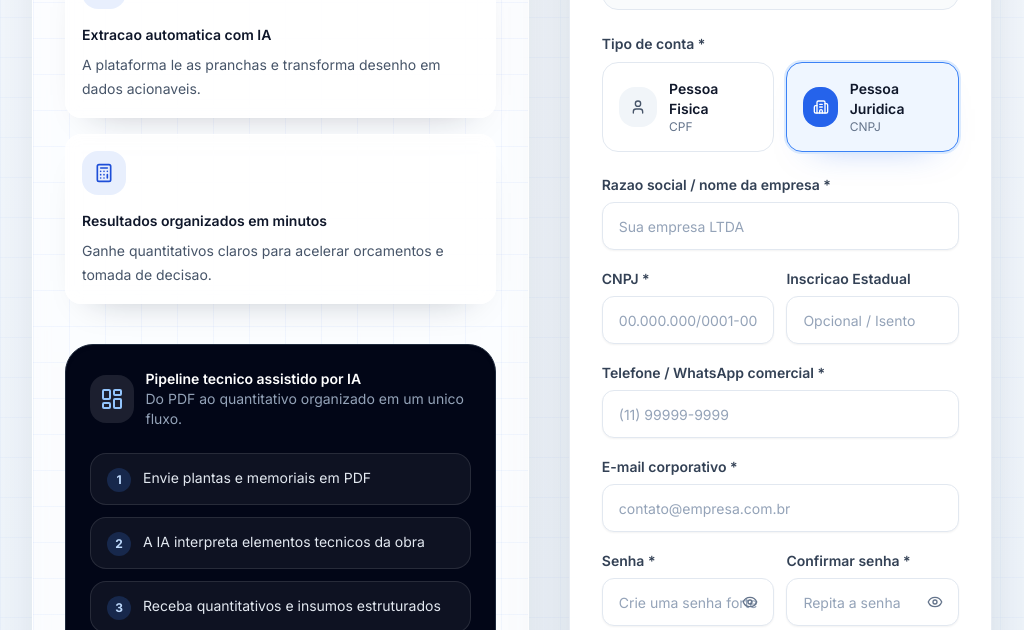
Test case: Auth conversion flow › preselects PJ from the query string and preserves CNPJ data when toggling account type
(page scrolled)
Expected: the field labelled "Razao social / nome da empresa *" is shown, [602,202,959,250]
Type "12345678000190" into the field labelled "CNPJ *" at point(688, 320), box [602,296,774,344]
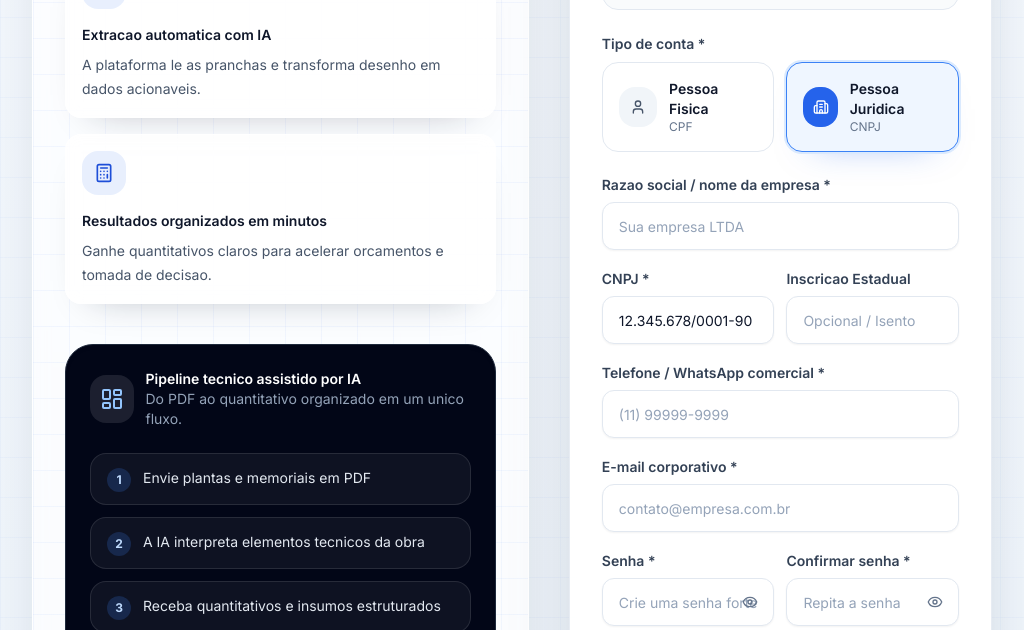
Expected: the field labelled "CNPJ *" holds "12.345.678/0001-90", [602,296,774,344]
Click the button "Pessoa Fisica CPF" at point(688, 107), box [602,62,774,152]
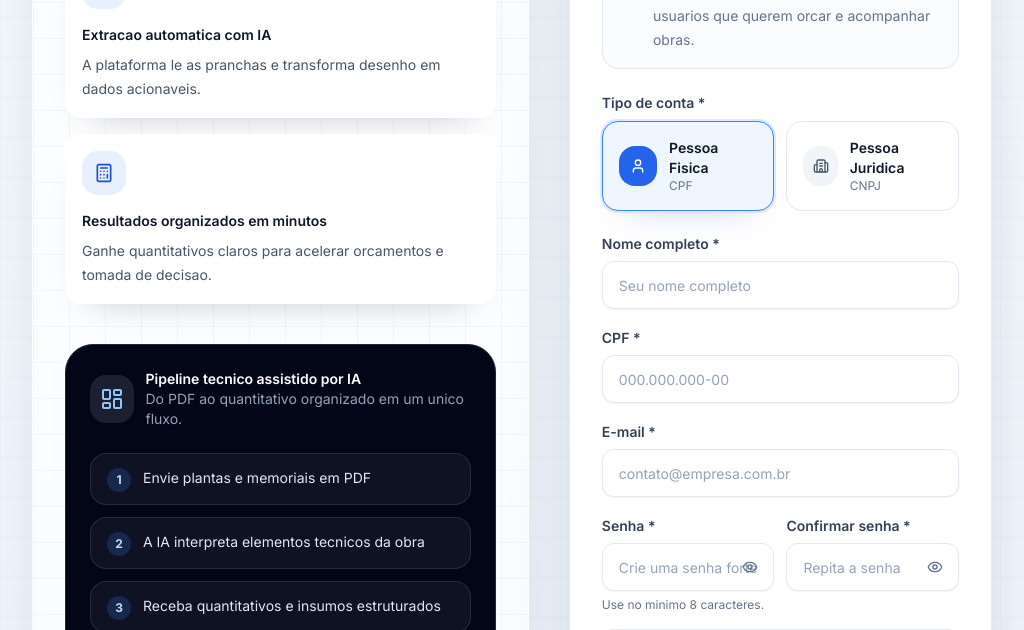
Expected: the field labelled "Nome completo *" is shown, [602,261,959,309]
Click the button "Pessoa Juridica CNPJ" at point(873, 166), box [786,121,959,211]
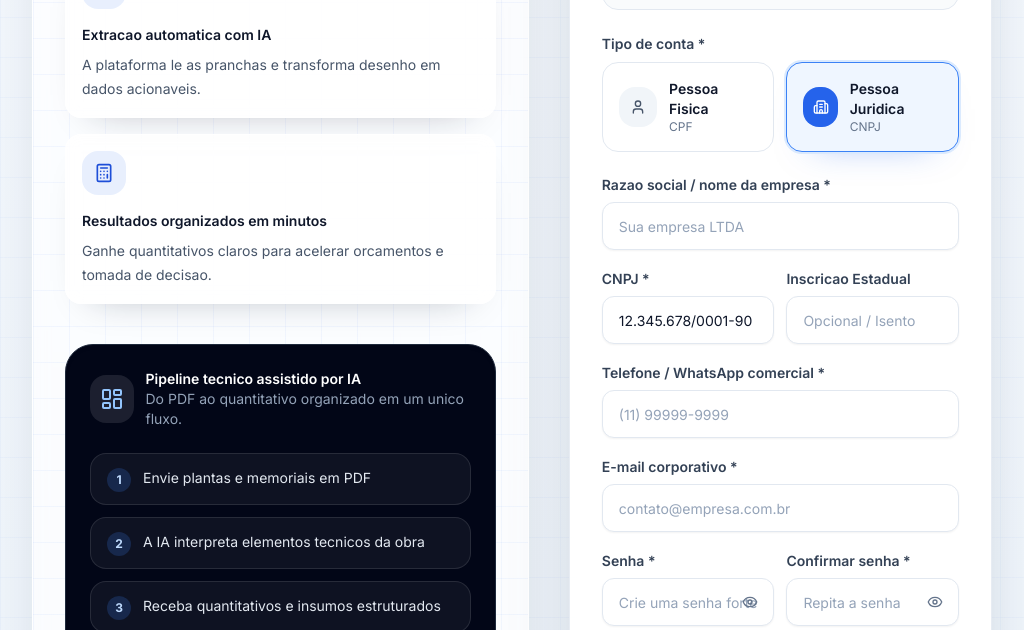
Expected: the field labelled "CNPJ *" holds "12.345.678/0001-90", [602,296,774,344]
